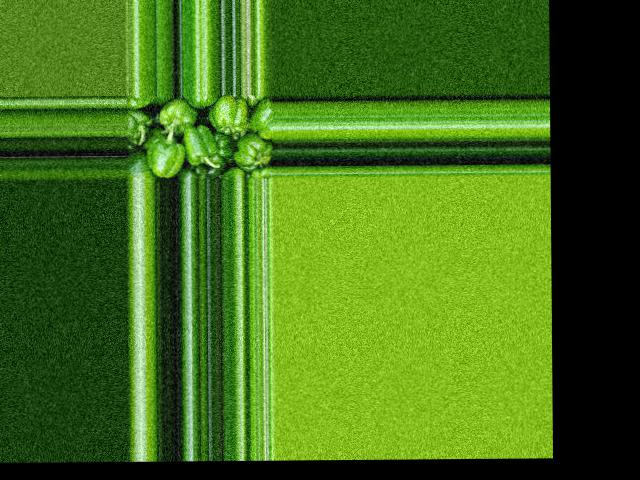bell_pepper: (125, 152, 159, 179)
